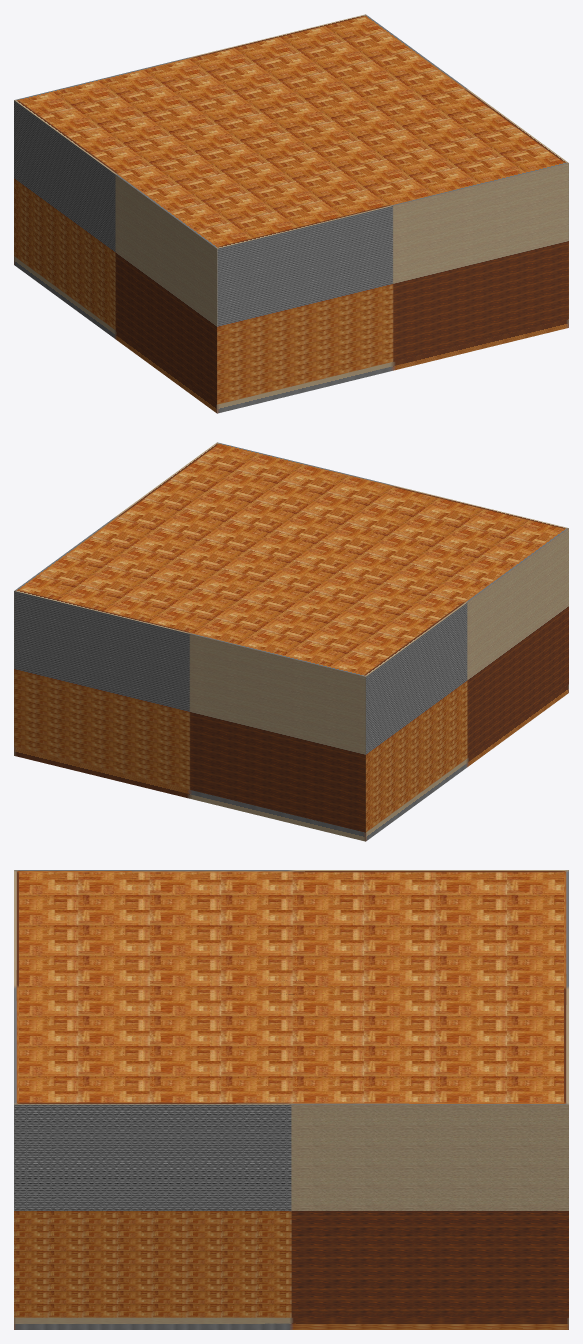
The model's file is roomsample.fbx.
The picture shows the model from 3 angles, top to bottom: view 1: azimuth 30°, elevation 25°; view 2: azimuth 150°, elevation 25°; view 3: azimuth 270°, elevation 25°; orthographic projection. The views are drawn at different scales.
Visible parts, largest first — view 1: Cube; view 2: Cube; view 3: Cube.
Boxes of the visible parts, left/top/right/bottom form: Cube: left=14, top=14, right=568, bottom=413; Cube: left=14, top=442, right=568, bottom=841; Cube: left=14, top=870, right=568, bottom=1329.
Size of the model in its own units: 1630 by 762 by 1630.
